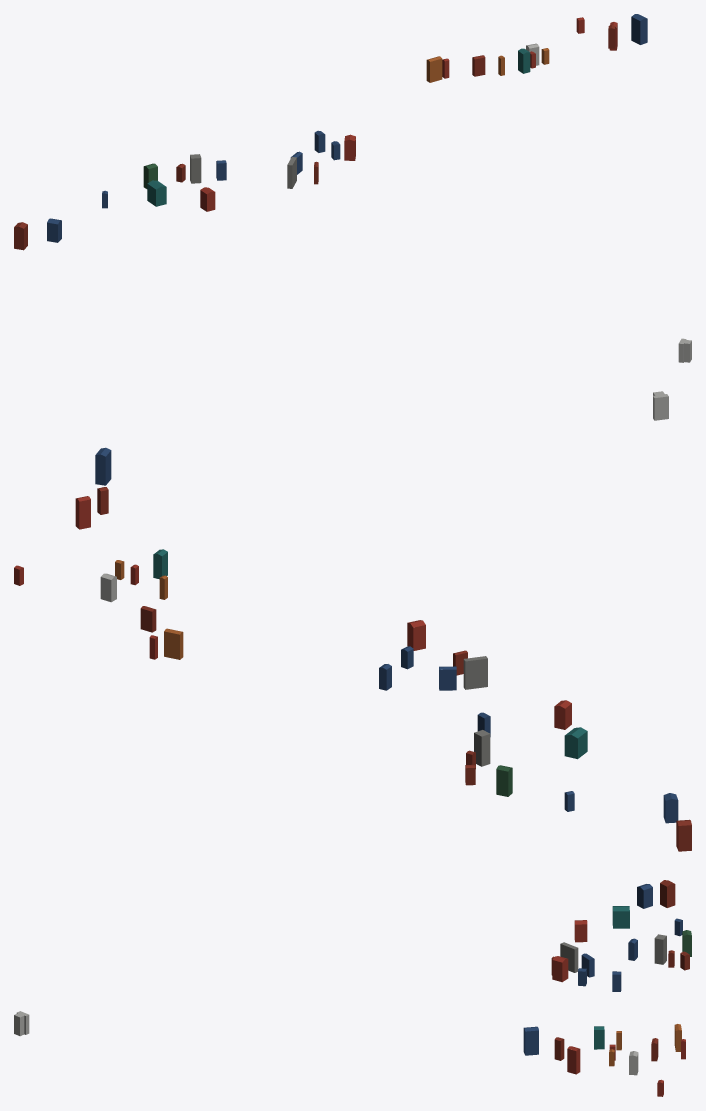
Rendered from near-16-54725-29735.e7ba0e3b.glb.
3 renders of one model, top to bottom at view 1: azimuth 30°, elevation 25°; view 2: azimuth 150°, elevation 25°; view 3: azimuth 270°, elevation 25°, orthographic. The views are drawn at different scales.
Size of the model in its own units: 559 by 138 by 577.
